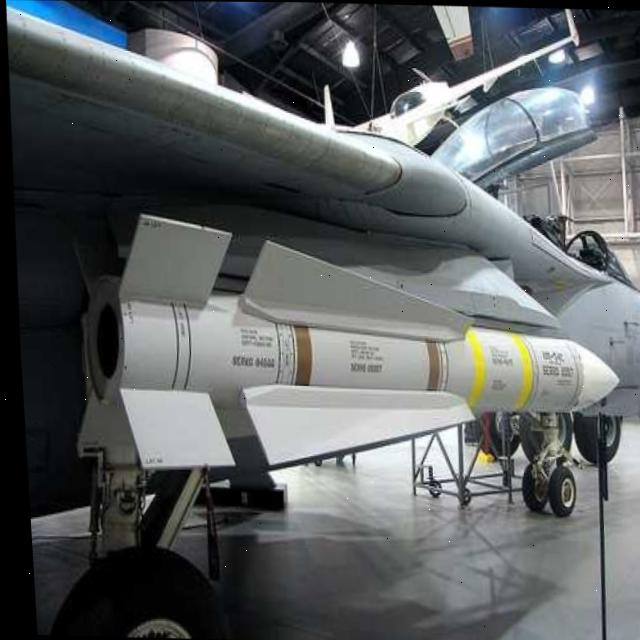missile: (56, 202, 620, 482)
